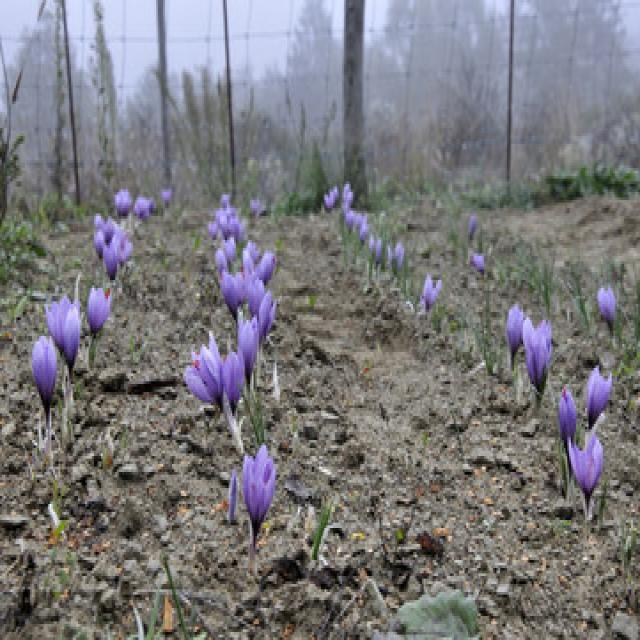saffron closed: (31, 337, 56, 414), (559, 389, 576, 450), (258, 291, 276, 344)
saffron open: (242, 444, 276, 573), (184, 333, 224, 410), (569, 434, 602, 518), (522, 318, 551, 406), (586, 367, 612, 428), (88, 288, 111, 337), (598, 286, 615, 329)
